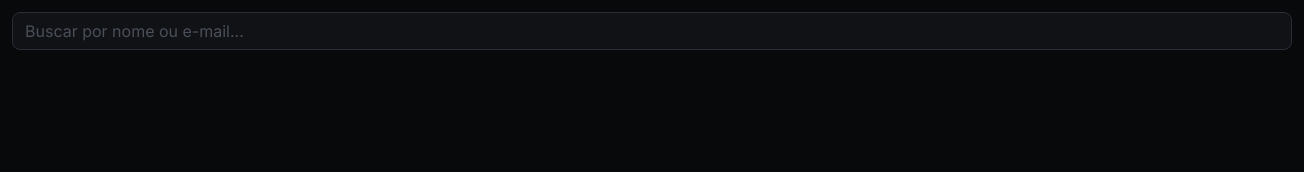
Test case: EmailIndividualPicker › descarta resposta de busca desatualizada que chegue fora de ordem
The width and height of the screenshot is (1304, 172).
# Busca 1 (vai ficar "mais lenta"): "ana".
Type "ana" into the field at coordinates (652, 31), box [12,12,1292,50]
Wait 500 ms
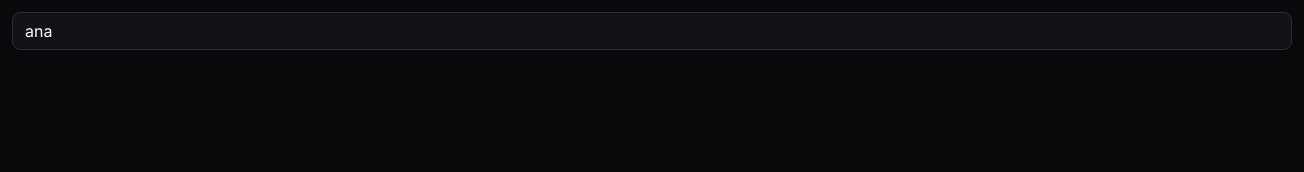
# Busca 2 (a mais recente): "bruno".
Replace the text in the field with "bruno" at coordinates (652, 31), box [12,12,1292,50]
Wait 500 ms
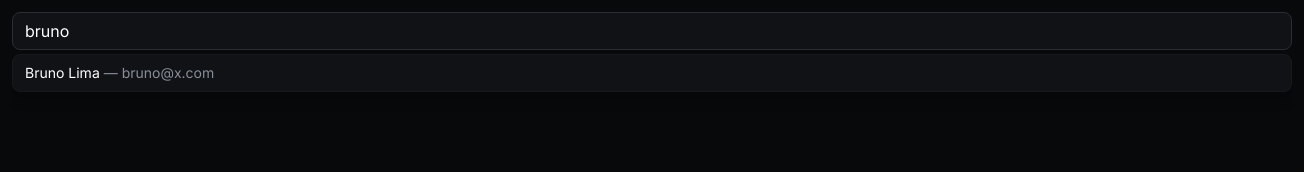
expect the text "Bruno Lima" is shown: met, box [25,64,100,81]
